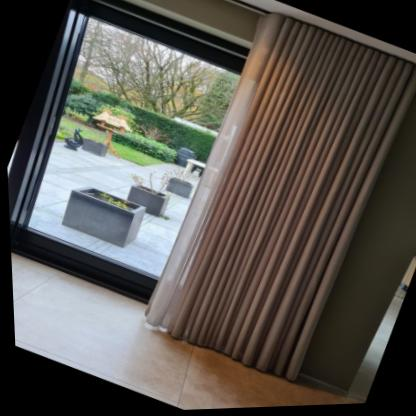Curtains: (140, 15, 416, 387)
Window: (0, 0, 249, 301)
